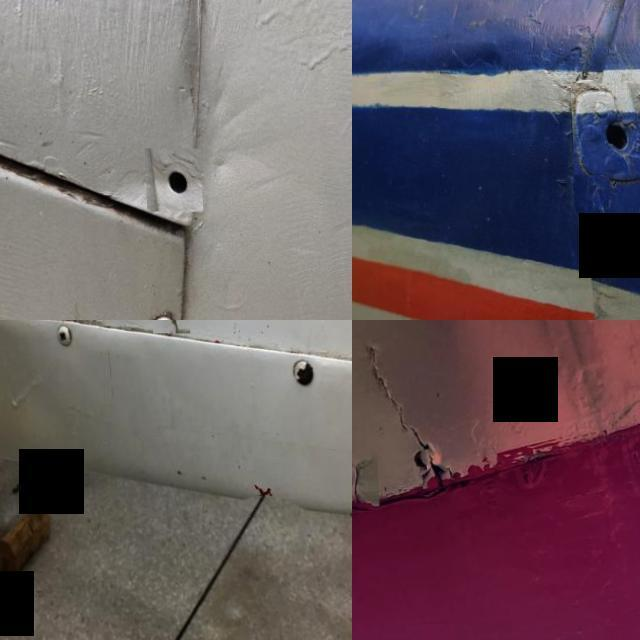Crack: (357, 334, 462, 496), (276, 345, 324, 397), (352, 452, 375, 510), (52, 320, 74, 357)
Missing_Fastener: (567, 82, 640, 175), (142, 148, 200, 211)
